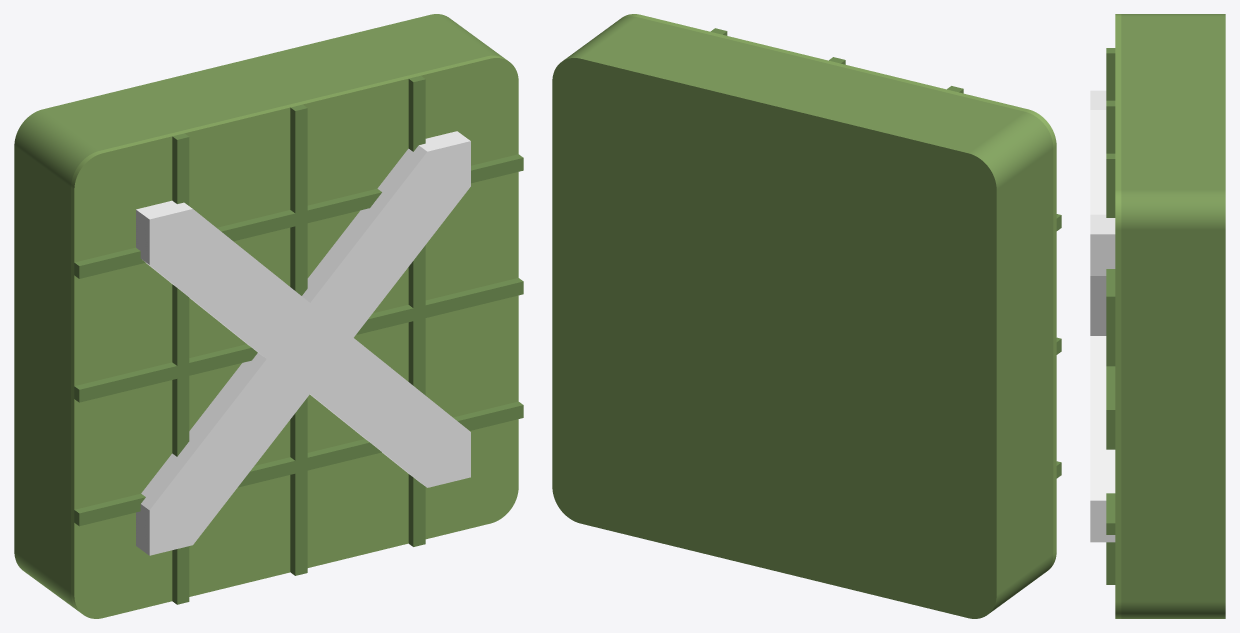
Rendered from icon-3d.glb.
The picture shows the model from 3 angles, left to right: view 1: azimuth 30°, elevation 25°; view 2: azimuth 150°, elevation 25°; view 3: azimuth 270°, elevation 25°; orthographic projection. The views are drawn at different scales.
Visible parts, largest first — view 1: excel-pro-icon; view 2: excel-pro-icon; view 3: excel-pro-icon.
Boxes of the visible parts, <box> form: excel-pro-icon: <box>14,14,523,618</box>; excel-pro-icon: <box>552,14,1061,618</box>; excel-pro-icon: <box>1090,14,1225,618</box>.
Bounding box in the file's own units: 1.88 × 1.88 × 0.54.
